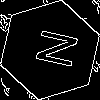N: (25, 25, 79, 70)
